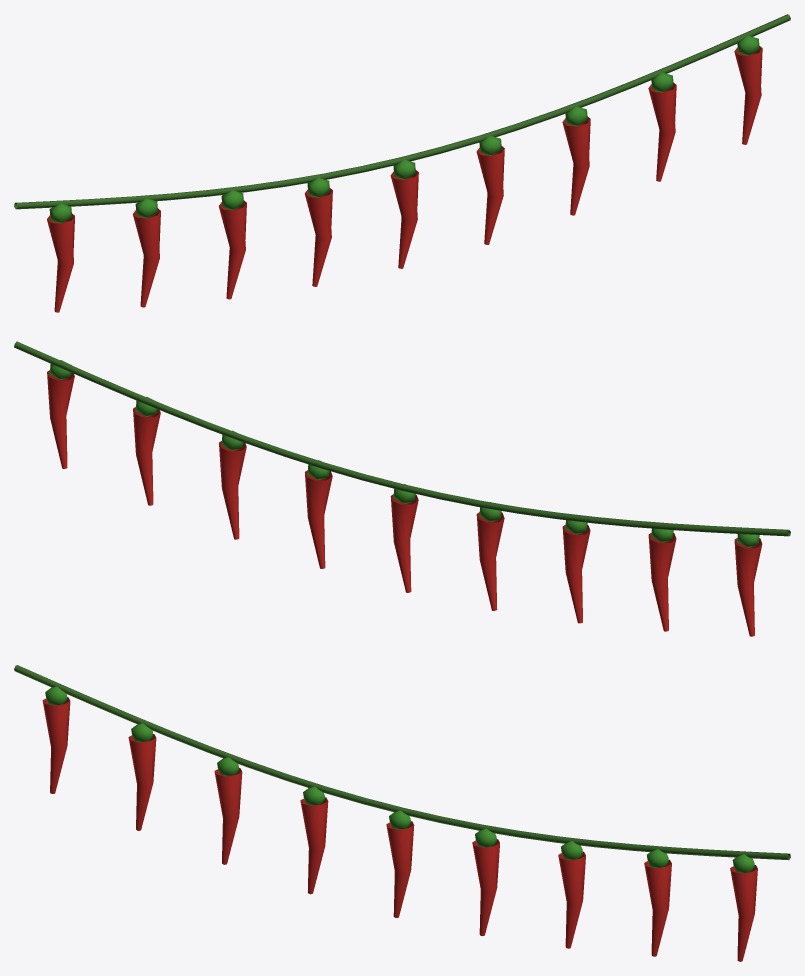
Rendered from furn_chili_lights.glb.
The picture shows the model from 3 angles, top to bottom: view 1: azimuth 30°, elevation 25°; view 2: azimuth 150°, elevation 25°; view 3: azimuth 330°, elevation 25°; orthographic projection.
Visible parts, largest first — view 1: furn_chili_lights_gloss, furn_chili_lights_main; view 2: furn_chili_lights_gloss, furn_chili_lights_main; view 3: furn_chili_lights_gloss, furn_chili_lights_main.
Boxes of the visible parts, <box> form: furn_chili_lights_gloss: <box>47,46,762,312</box>; furn_chili_lights_main: <box>14,14,790,223</box>; furn_chili_lights_gloss: <box>47,370,762,636</box>; furn_chili_lights_main: <box>14,341,790,547</box>; furn_chili_lights_gloss: <box>42,697,757,961</box>; furn_chili_lights_main: <box>14,665,790,873</box>.
Bounding box in the file's own units: 2 × 0.3885 × 0.0606.
